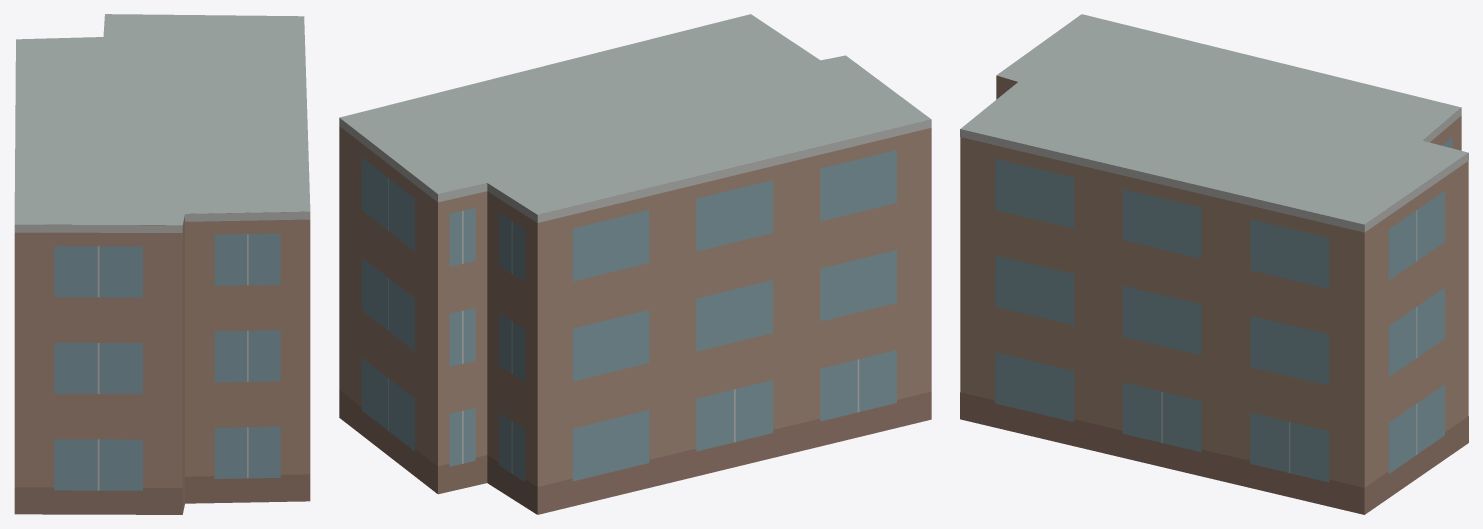
Rendered from survey-upis-32505278.glb.
The picture shows the model from 3 angles, left to right: view 1: azimuth 30°, elevation 25°; view 2: azimuth 150°, elevation 25°; view 3: azimuth 270°, elevation 25°; orthographic projection. The views are drawn at different scales.
Parts seen in each view (by area): view 1: survey-upis-32505278.tmp; view 2: survey-upis-32505278.tmp; view 3: survey-upis-32505278.tmp.
Boxes of the visible parts, left/top/right/bottom form: survey-upis-32505278.tmp: left=14, top=14, right=310, bottom=514; survey-upis-32505278.tmp: left=339, top=14, right=931, bottom=514; survey-upis-32505278.tmp: left=960, top=14, right=1468, bottom=514.
Size of the model in its own units: 13.86 by 8.9 by 14.14.
